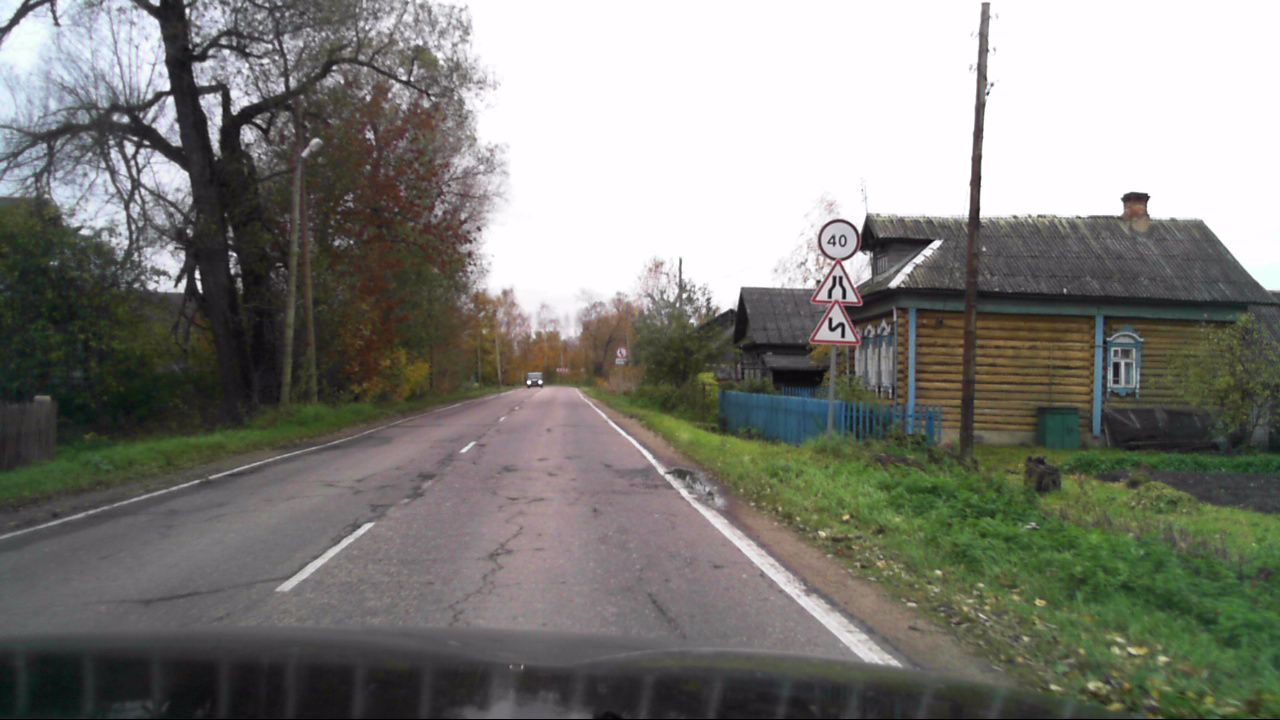speed_warning_40: (817, 218, 859, 261)
